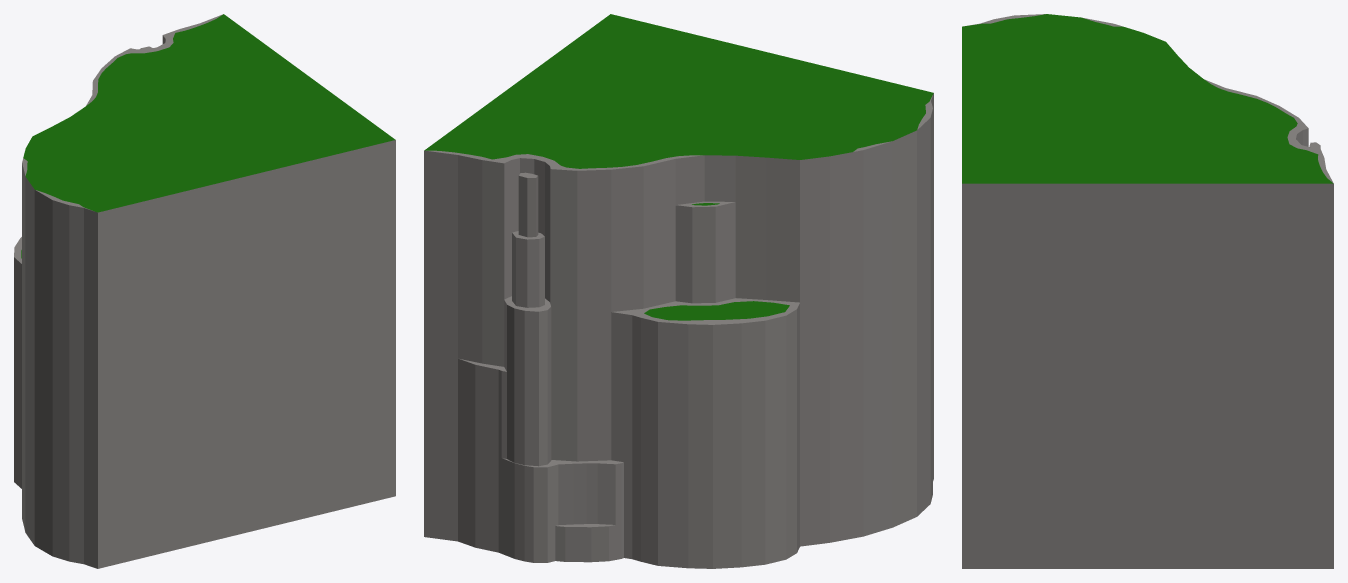
File: MountainCorner.fbx
3 renders of one model, left to right at view 1: azimuth 30°, elevation 25°; view 2: azimuth 150°, elevation 25°; view 3: azimuth 270°, elevation 25°, orthographic. The views are drawn at different scales.
Parts seen in each view (by area): view 1: Plane.004; view 2: Plane.004; view 3: Plane.004.
Part boxes in pixels (bbox=[...]): Plane.004: bbox=[14, 14, 395, 568]; Plane.004: bbox=[424, 14, 933, 568]; Plane.004: bbox=[962, 14, 1333, 568].
Bounding box in the file's own units: 94.51 × 100 × 87.5.
